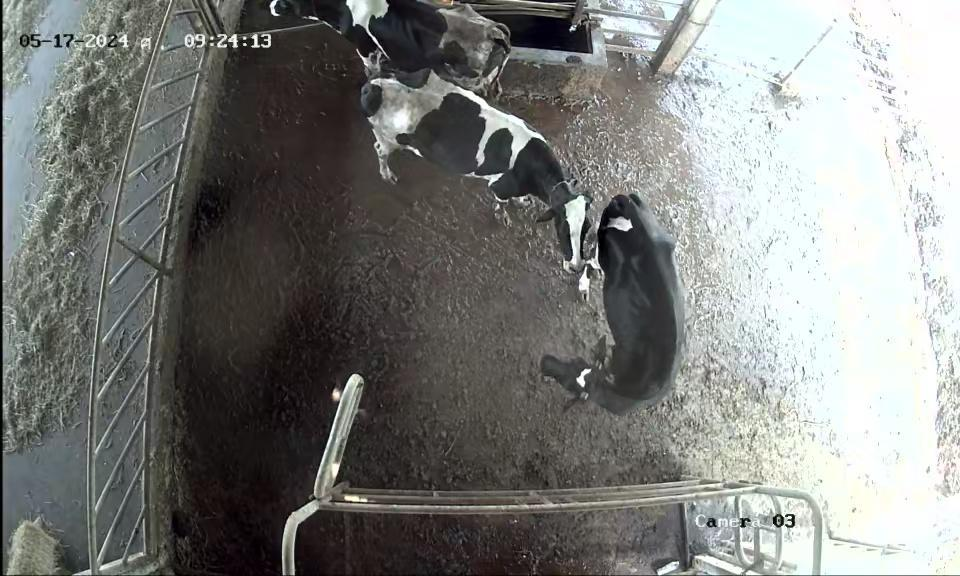stand: (352, 67, 594, 283), (536, 177, 706, 433), (268, 0, 512, 86)
